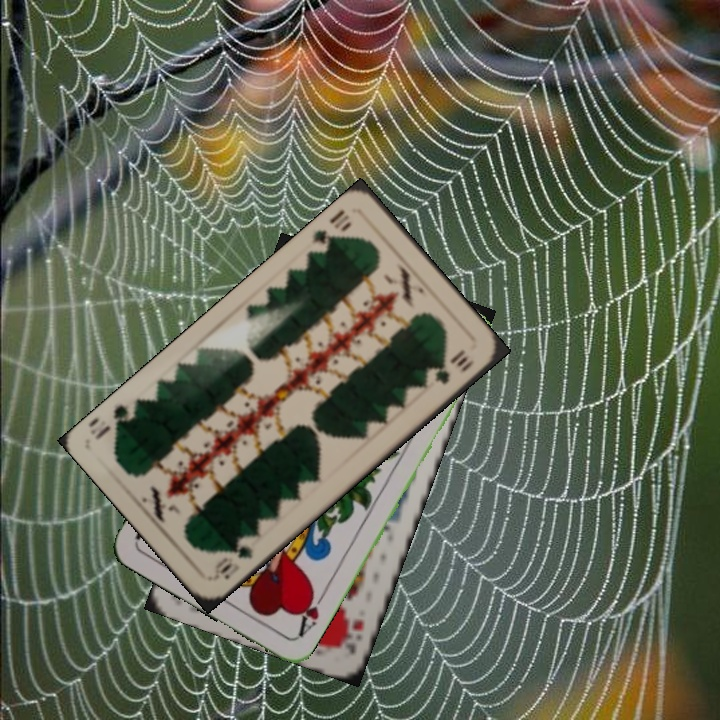G10: (308, 205, 354, 257), (210, 541, 255, 582)
HA: (294, 586, 330, 640)
HK: (335, 614, 367, 657)
